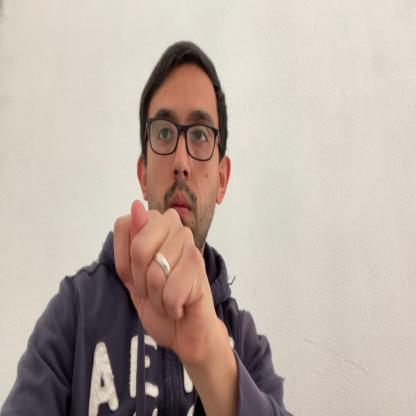T: (113, 199, 210, 366)
